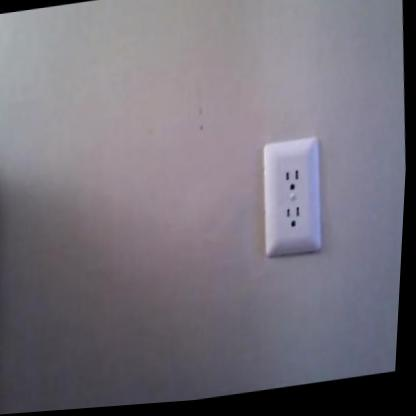OUTLET: (258, 134, 327, 260)
